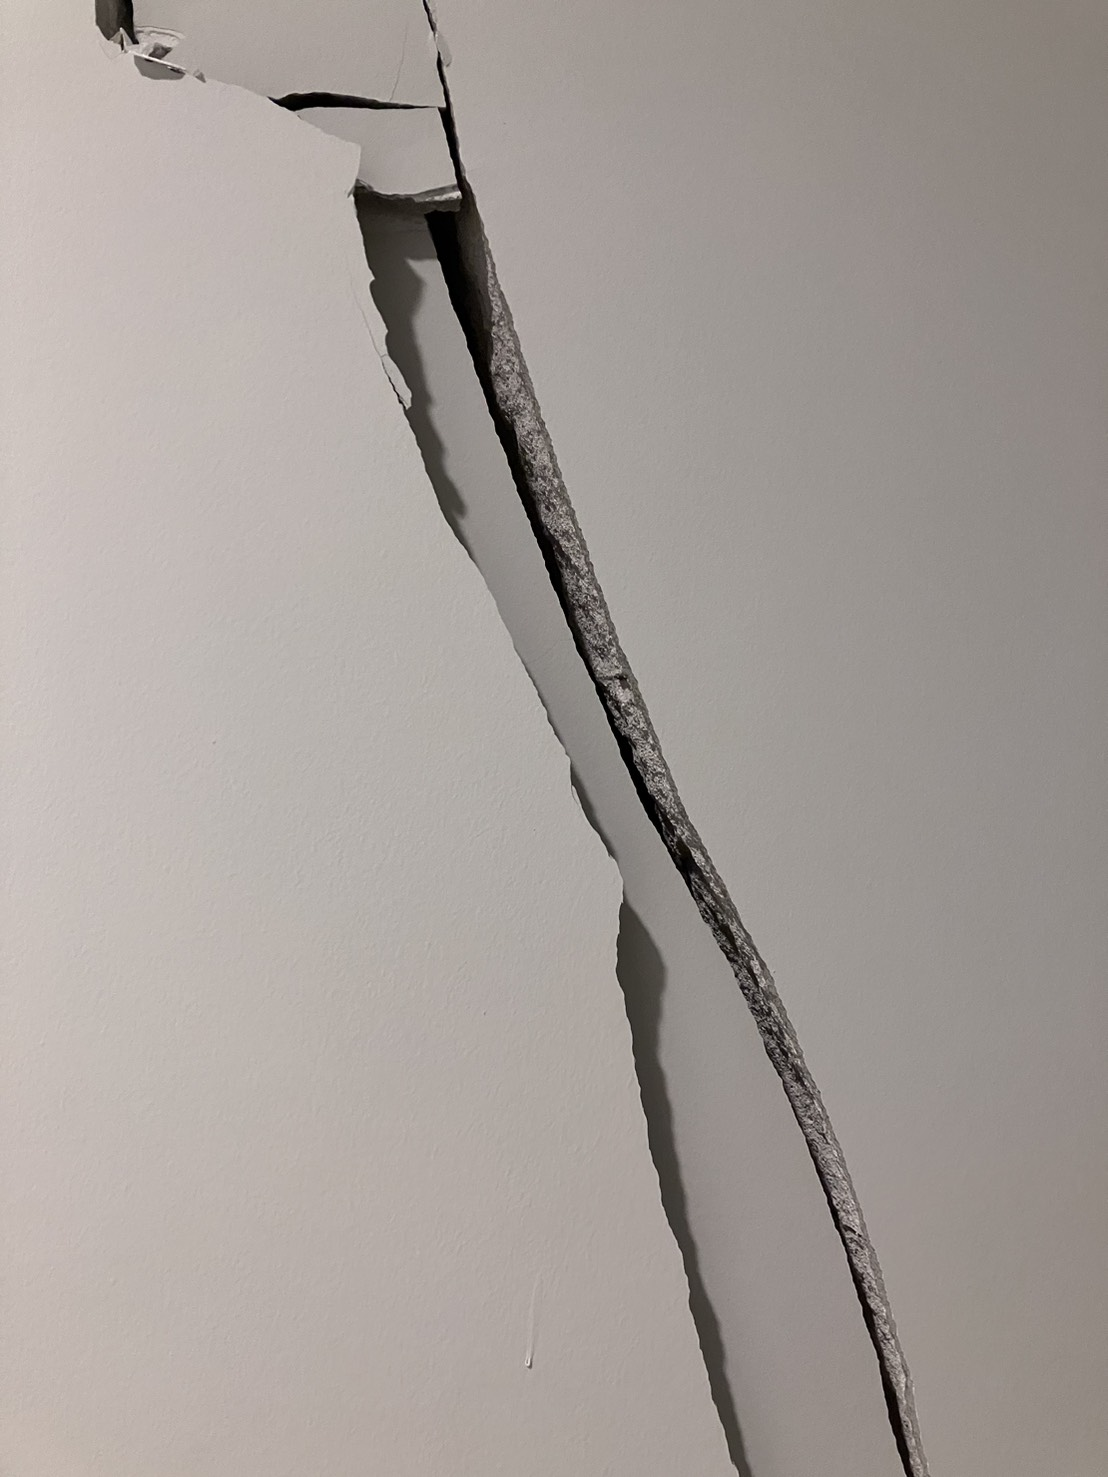High: (81, 2, 940, 1477)
